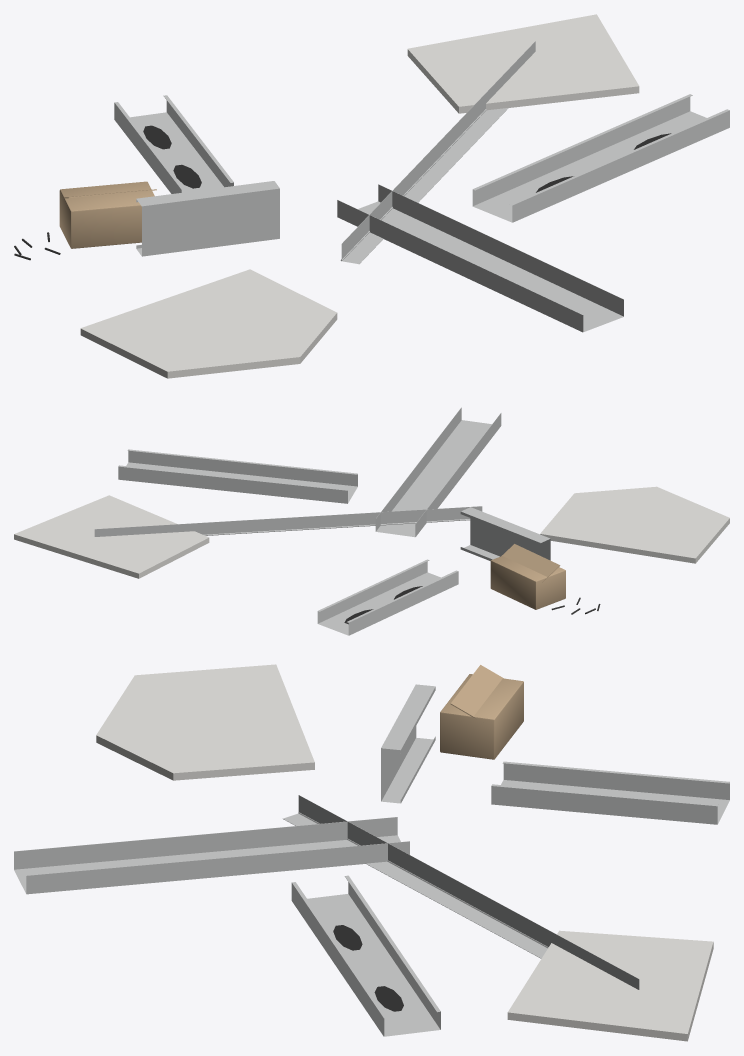
The model's file is Kit_TIScrap.fbx.
3 views of the same model, one above another, from view 1: azimuth 30°, elevation 25°; view 2: azimuth 150°, elevation 25°; view 3: azimuth 270°, elevation 25° (orthographic). The views are drawn at different scales.
Parts seen in each view (by area): view 1: Kit_TIScrap_LOD0; view 2: Kit_TIScrap_LOD0; view 3: Kit_TIScrap_LOD0.
Part boxes in pixels (box(x1,y1,x2,y2)): Kit_TIScrap_LOD0: box(14, 14, 729, 378); Kit_TIScrap_LOD0: box(14, 407, 729, 635); Kit_TIScrap_LOD0: box(14, 664, 729, 1041).
Size of what is drawn, in the model's own units: 1.36 by 0.0921 by 1.11.
